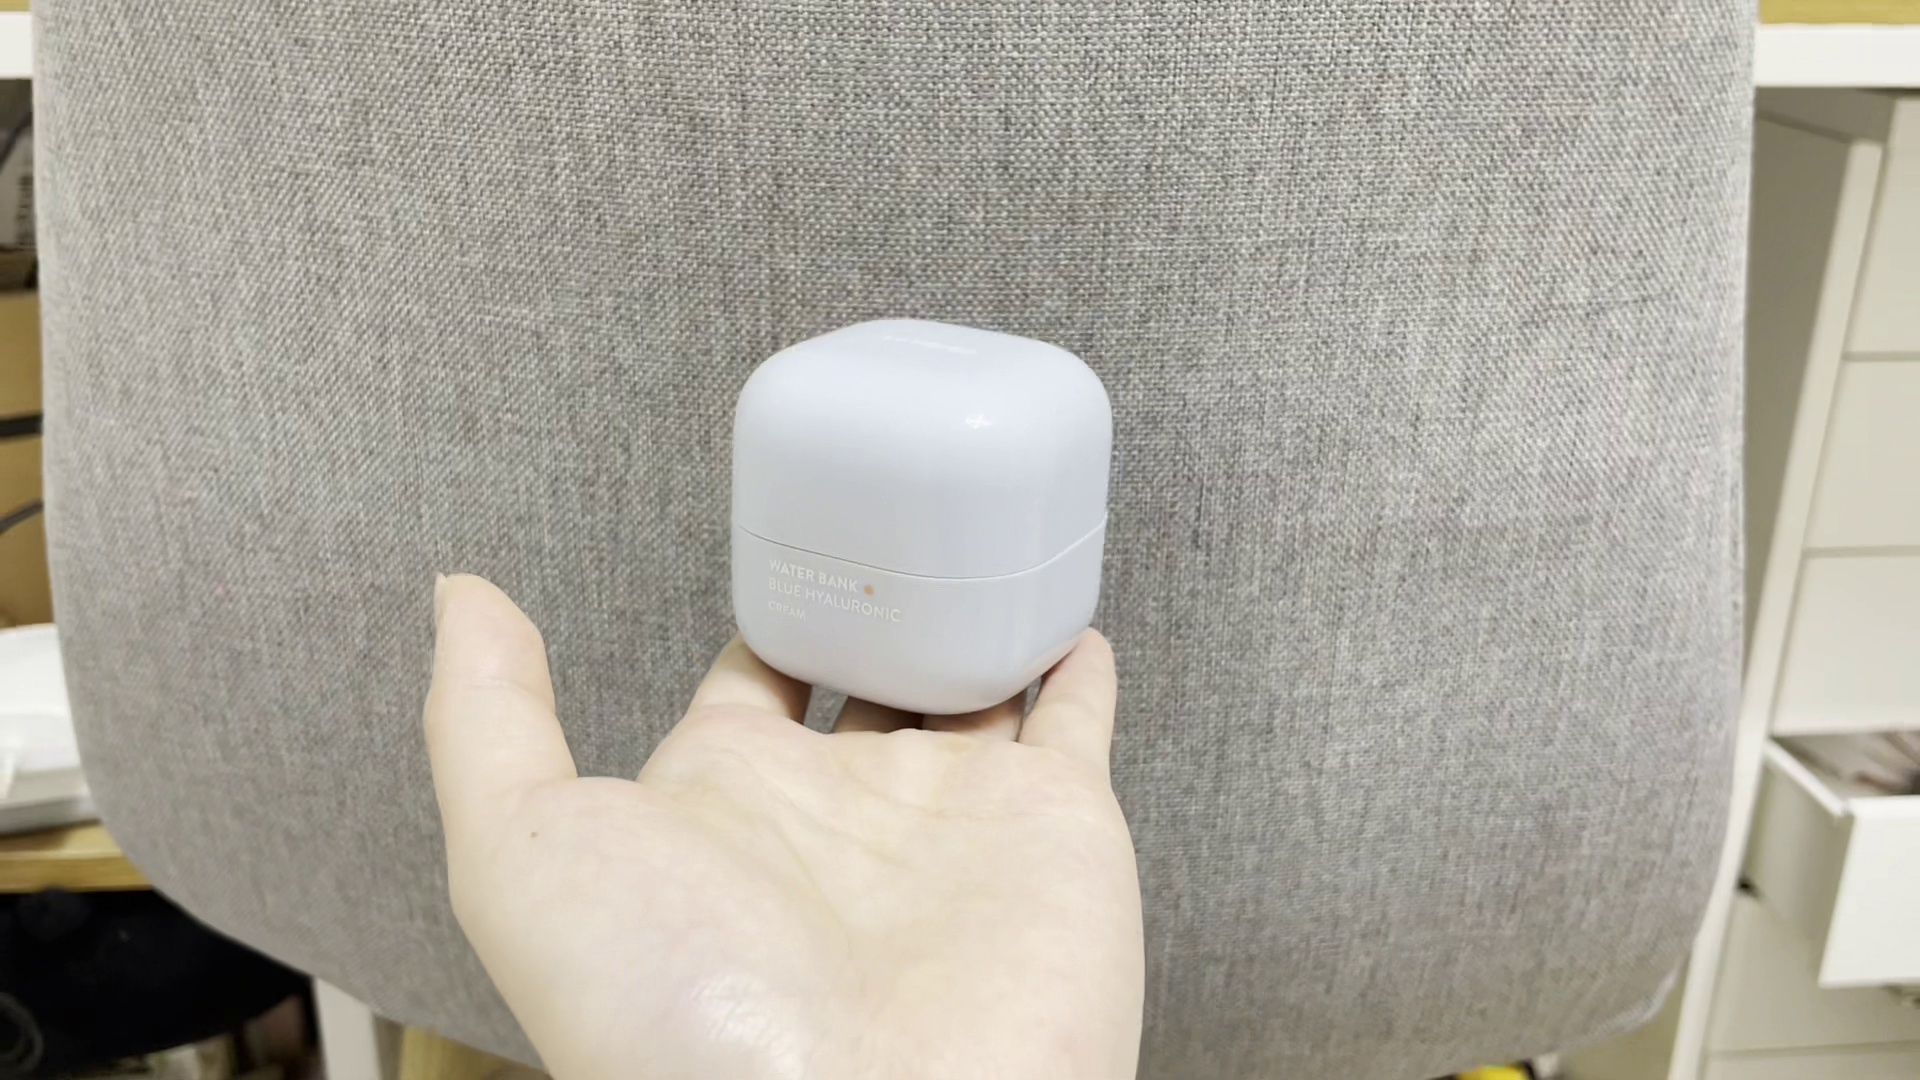cream: (735, 320, 1104, 712)
